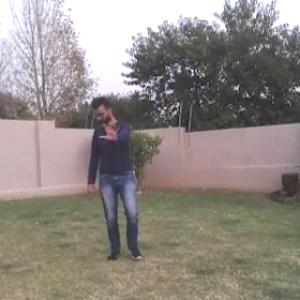follow_hand: (98, 114, 123, 142)
